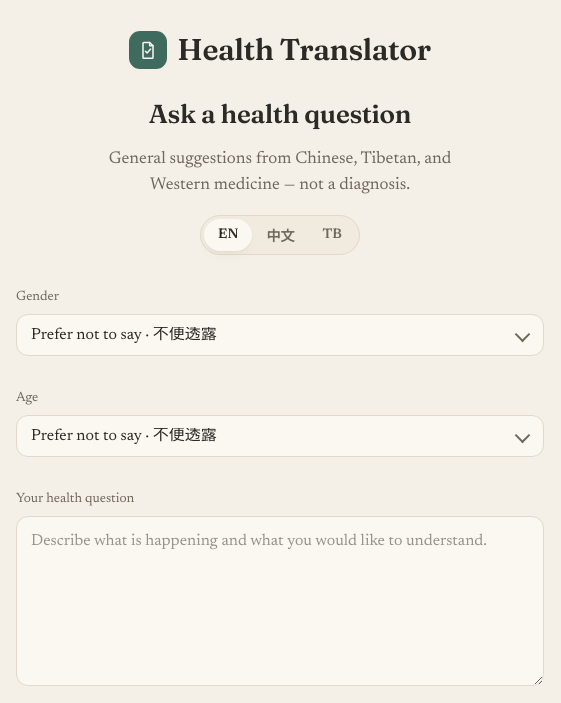
Test case: advice page T4 live flow › maps a fetch rejection to unavailable without logging the caught error
Replace the text in the text box labelled "Your health question" with "How can I sleep better?": (280, 601) [16, 516, 544, 686]
(page scrolled)
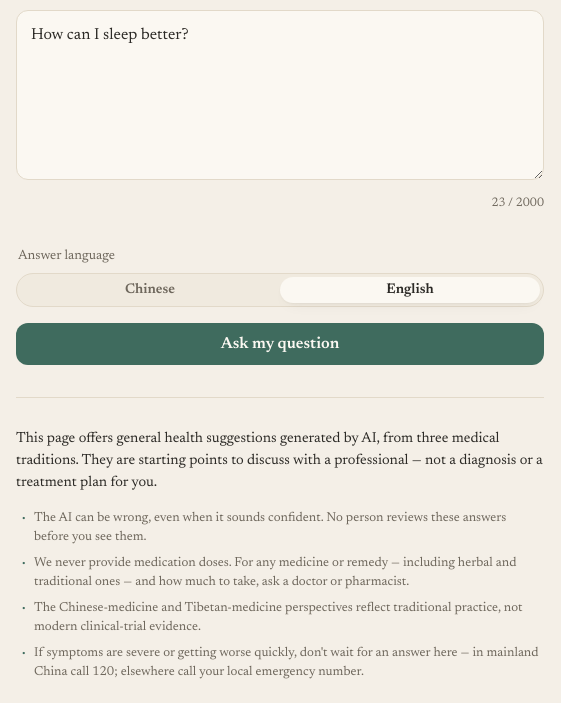
Click the button "Ask my question": (280, 344) [16, 323, 544, 365]
(page scrolled)
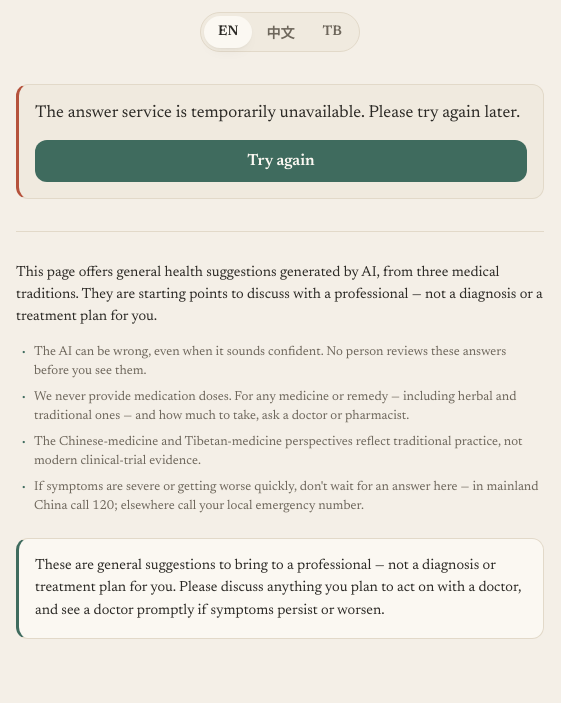
Expected: the number of elements with test id "advice-disclaimer" is 5, [16, 262, 544, 328]; [16, 342, 544, 381]; [16, 387, 544, 426]; [16, 432, 544, 471]; [16, 477, 544, 516]
Result: the message shows "The answer service is temporarily unavailable." at [35, 105, 520, 122]
